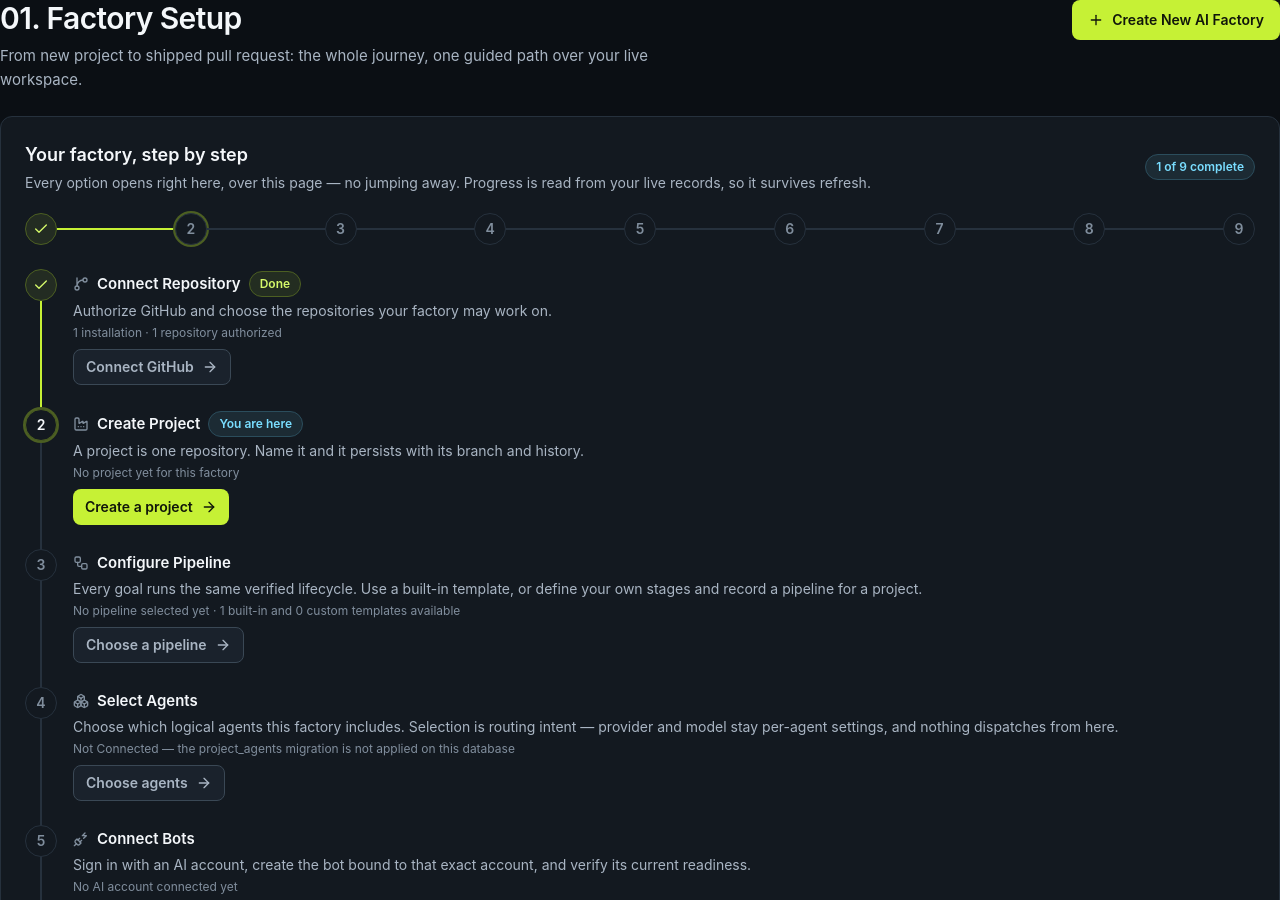
Test case: AiFactoryConsole › returns to the journey on its own once the overlay's control completes
Step 1. Click the button "Create a project" → (151, 507), box x1=73 y1=489 x2=229 y2=525
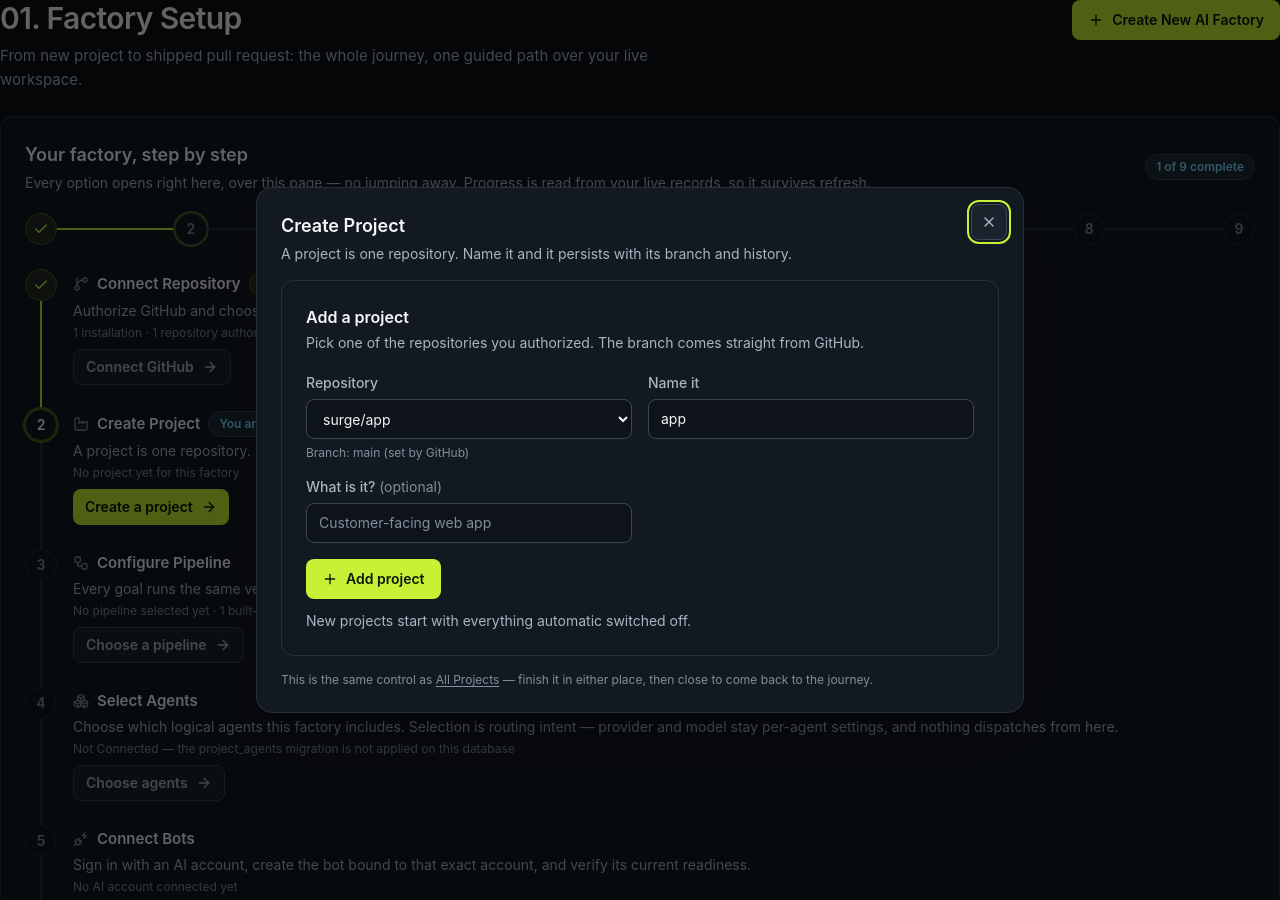
Check: the button "Add project" is enabled
Step 2. Click the button "Add project" → (373, 579), box x1=306 y1=559 x2=440 y2=599
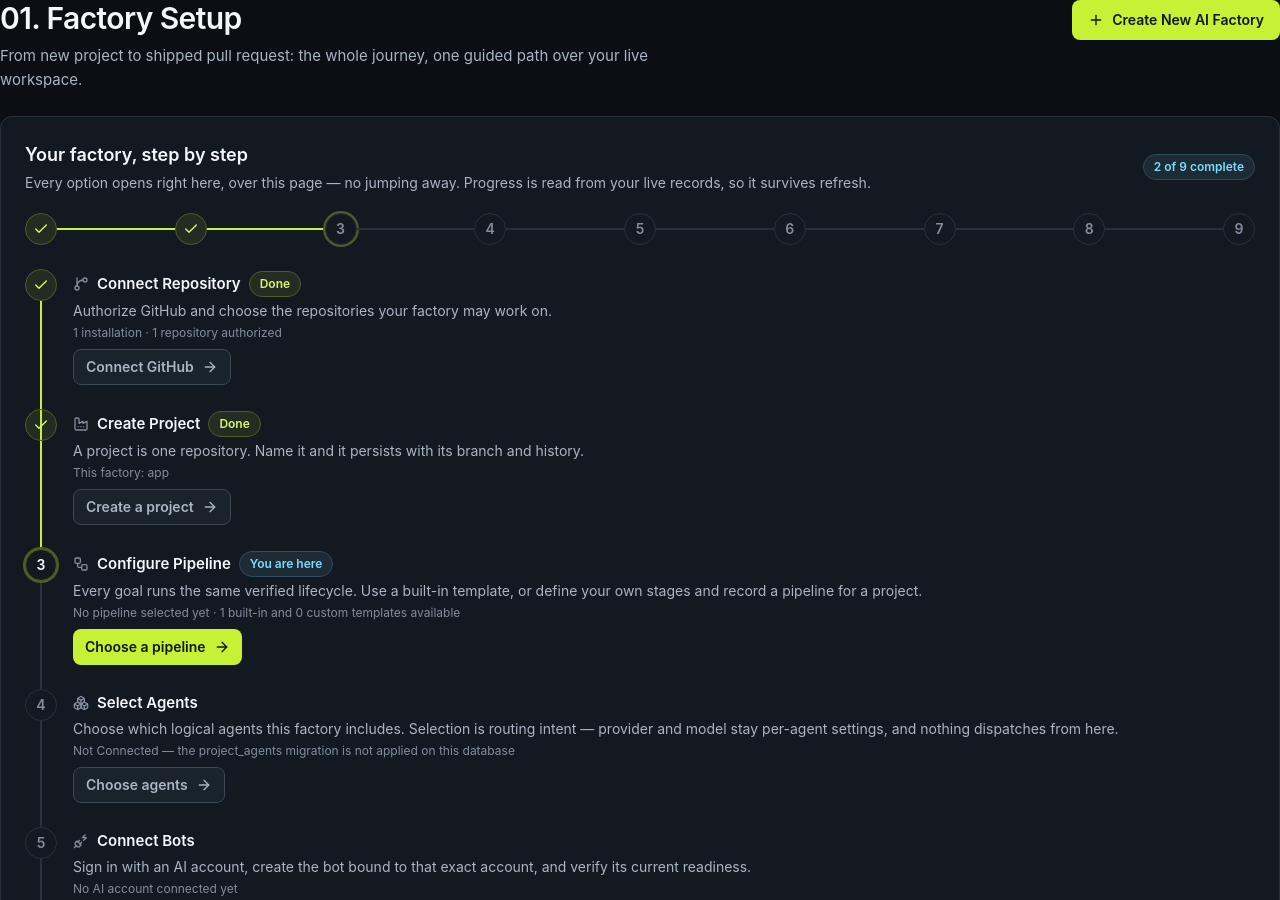
Check: the dialog is gone
